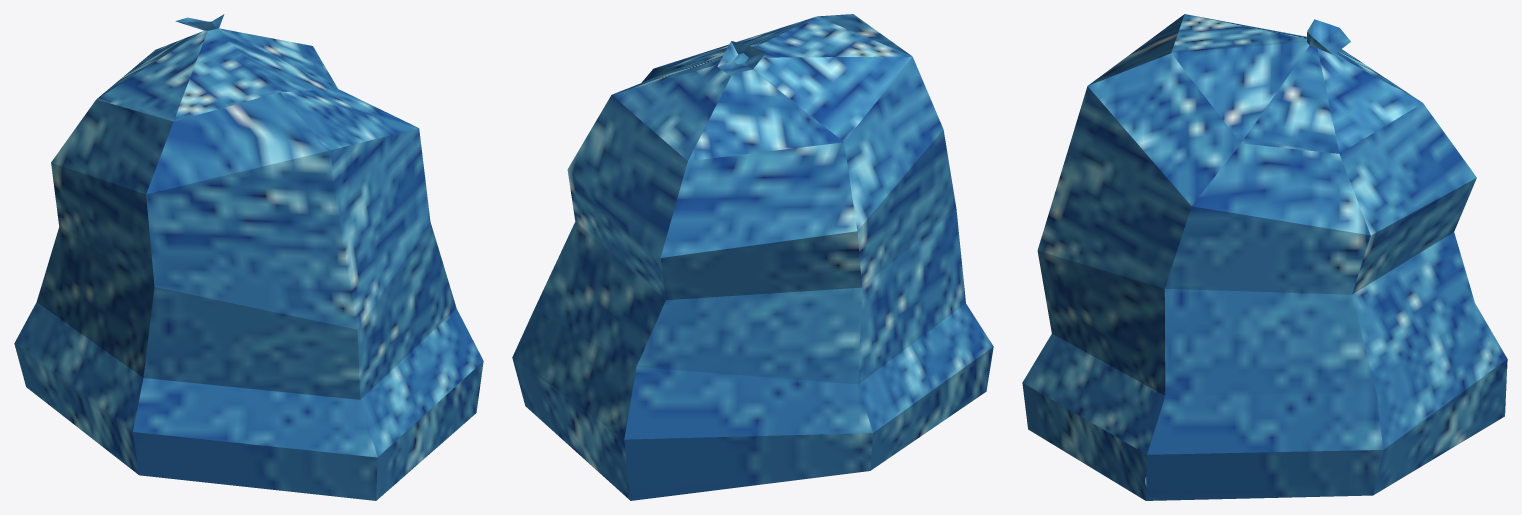
File: bolsasbasura2.fbx
3 views of the same model, side by side, from view 1: azimuth 30°, elevation 25°; view 2: azimuth 150°, elevation 25°; view 3: azimuth 270°, elevation 25° (orthographic). The views are drawn at different scales.
Parts seen in each view (by area): view 1: trashbag_1_blue; view 2: trashbag_1_blue; view 3: trashbag_1_blue.
Boxes of the visible parts, x1=… form: trashbag_1_blue: x1=14, y1=14, x2=483, y2=500; trashbag_1_blue: x1=512, y1=14, x2=993, y2=500; trashbag_1_blue: x1=1022, y1=14, x2=1507, y2=500.
Size of the model in its own units: 77.09 by 80.94 by 91.71.
Materials: 1 (1 with a texture image).
